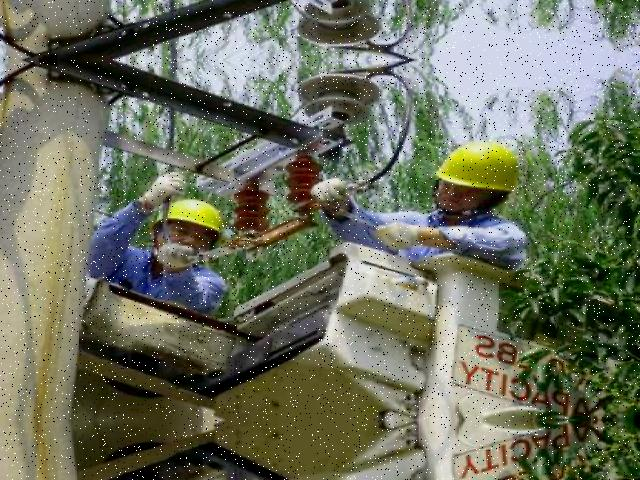Helmet: (424, 136, 527, 197), (151, 192, 235, 239)
